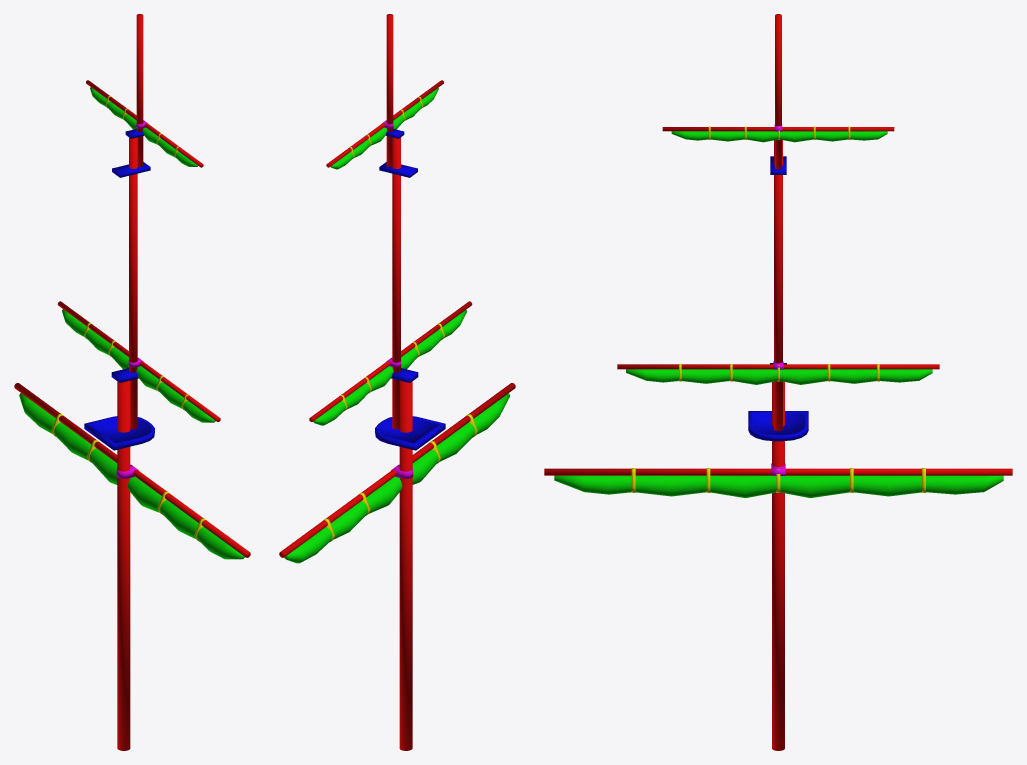
Rendered from 8mast2.fbx.
3 views of the same model, side by side, from view 1: azimuth 30°, elevation 25°; view 2: azimuth 150°, elevation 25°; view 3: azimuth 270°, elevation 25° (orthographic).
Visible parts, largest first — view 1: mast2; view 2: mast2; view 3: mast2.
Part boxes in pixels (x1,y1,x2,y2): mast2: (14, 14, 250, 750); mast2: (279, 14, 515, 750); mast2: (544, 14, 1012, 750).
Bounding box in the file's own units: 193 × 2664 × 1527.
